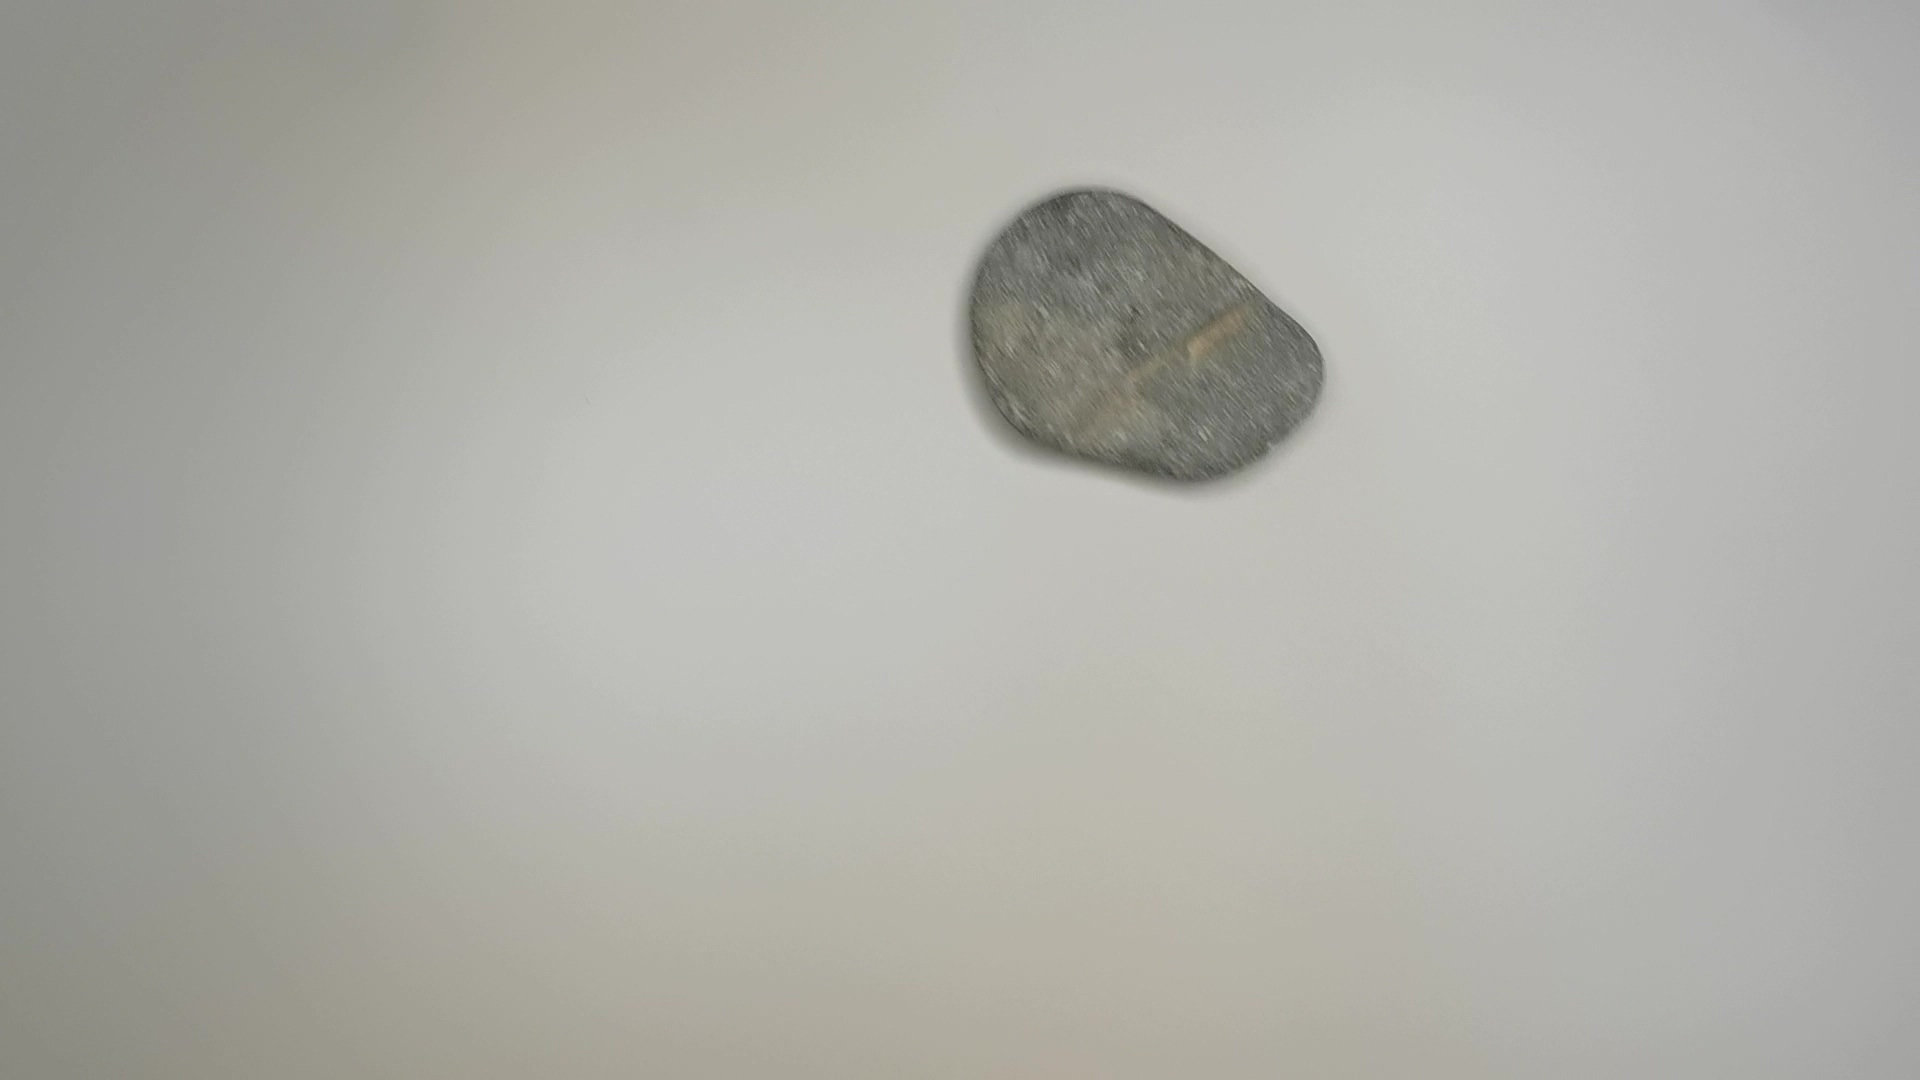ceramic: (964, 179, 1332, 491)
